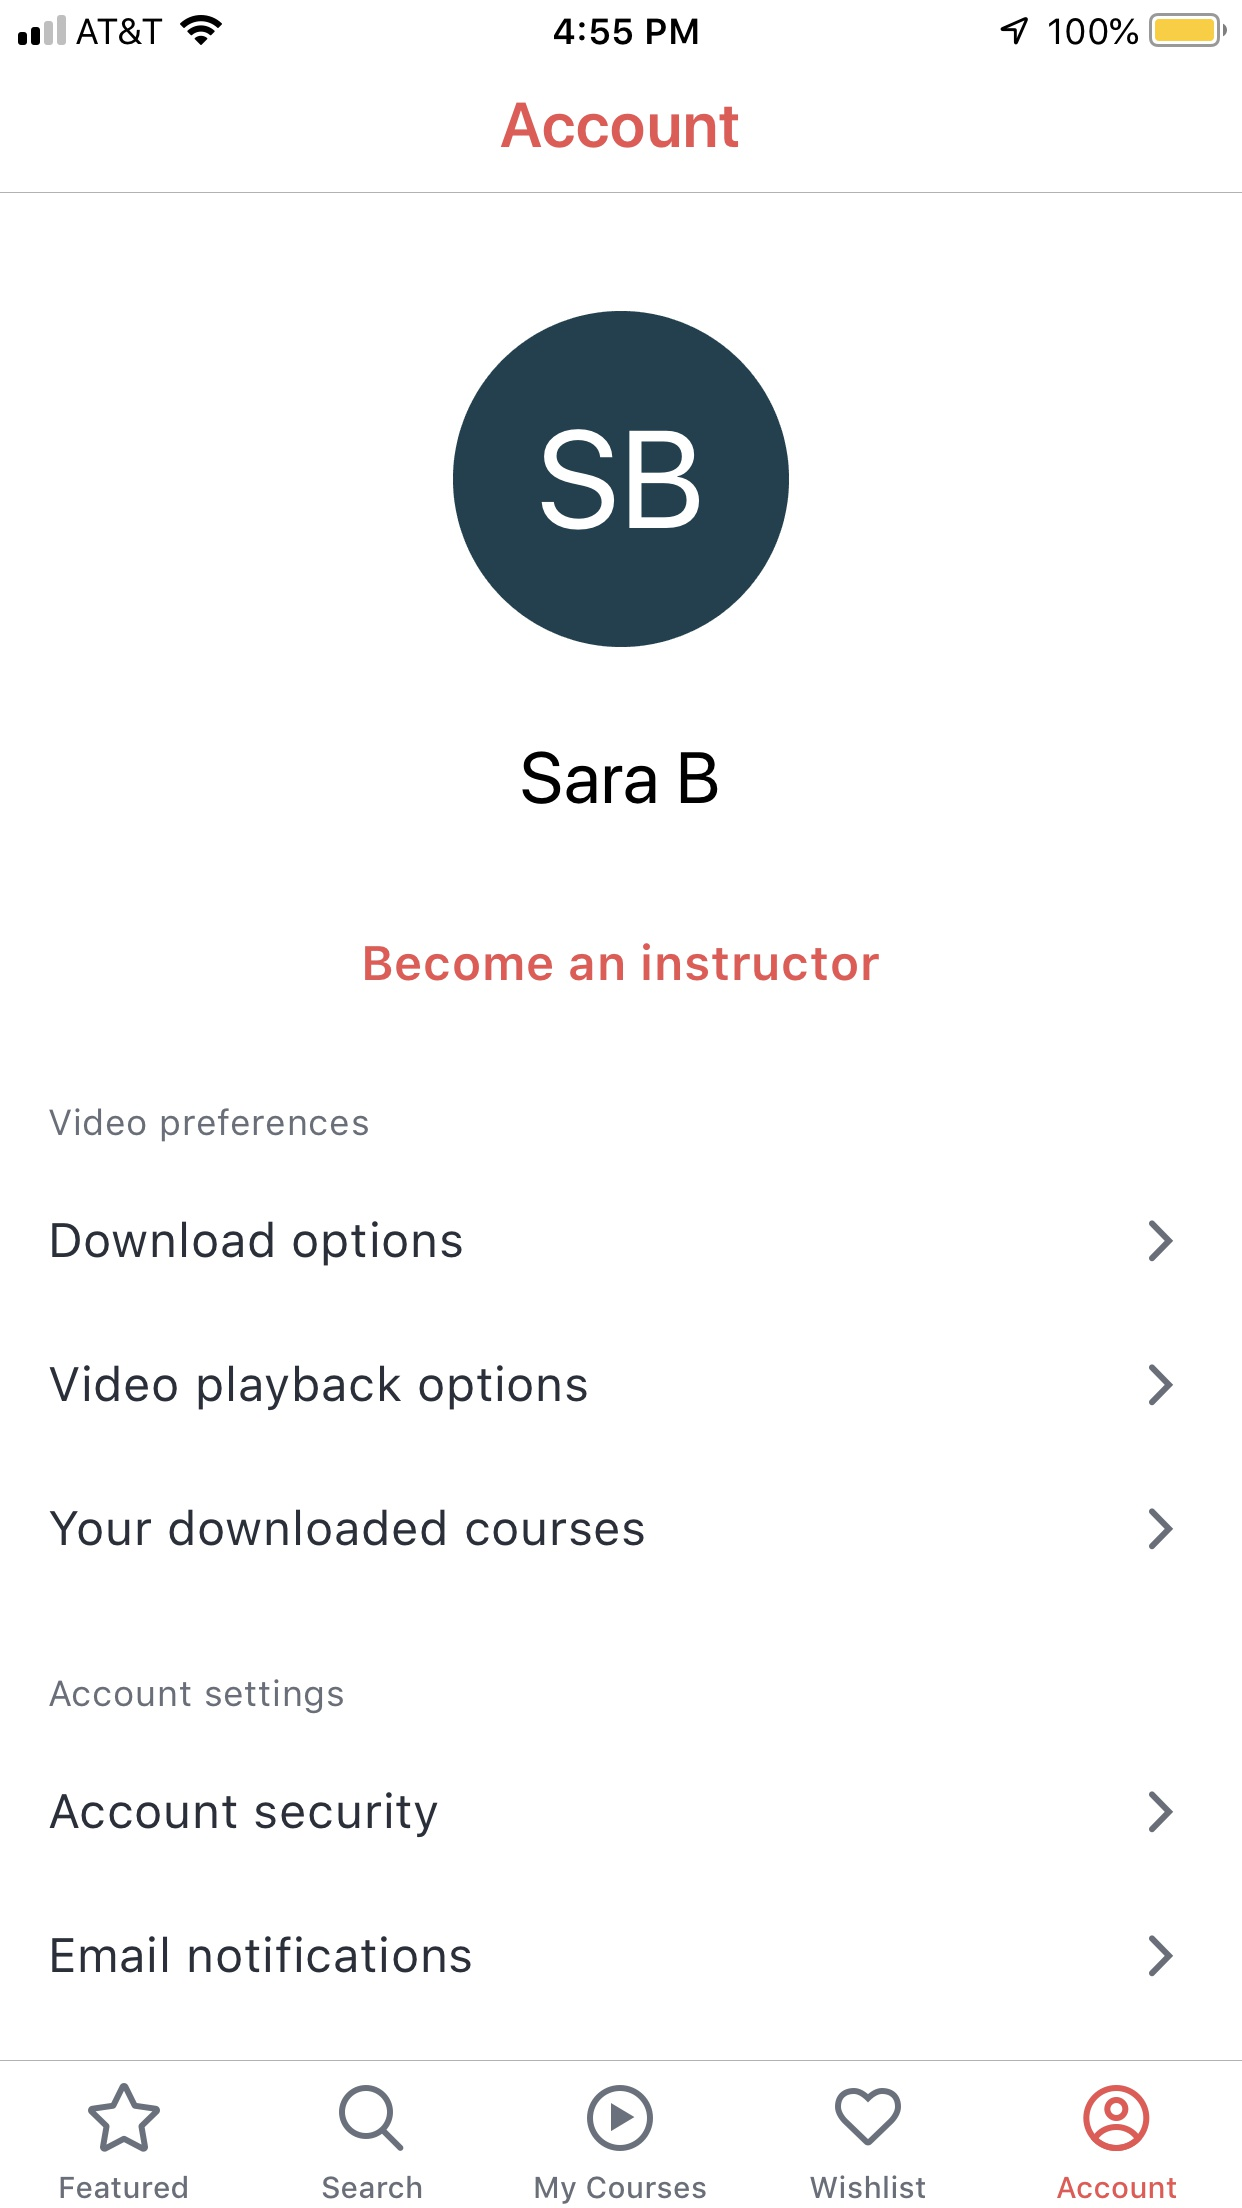Icon: (86, 2082, 162, 2152), (585, 2084, 654, 2152), (1083, 2084, 1151, 2152), (338, 2085, 405, 2152), (834, 2087, 902, 2147), (1148, 1934, 1174, 1977), (1148, 1507, 1174, 1551), (1148, 1789, 1174, 1832), (1148, 1363, 1174, 1406), (1148, 1219, 1174, 1262)
Image: (453, 311, 792, 648)
Text: (49, 1365, 588, 1412), (50, 1509, 645, 1547), (364, 942, 880, 983), (52, 1219, 463, 1266), (49, 1791, 438, 1838), (52, 1935, 472, 1974), (49, 1107, 370, 1143), (500, 102, 739, 150), (522, 751, 719, 805), (50, 1679, 346, 1715), (534, 2175, 707, 2205), (61, 2175, 190, 2199), (810, 2175, 927, 2200), (1055, 2175, 1177, 2199), (321, 2175, 423, 2200)
UpperTaskBar: (2, 2, 1242, 49)
